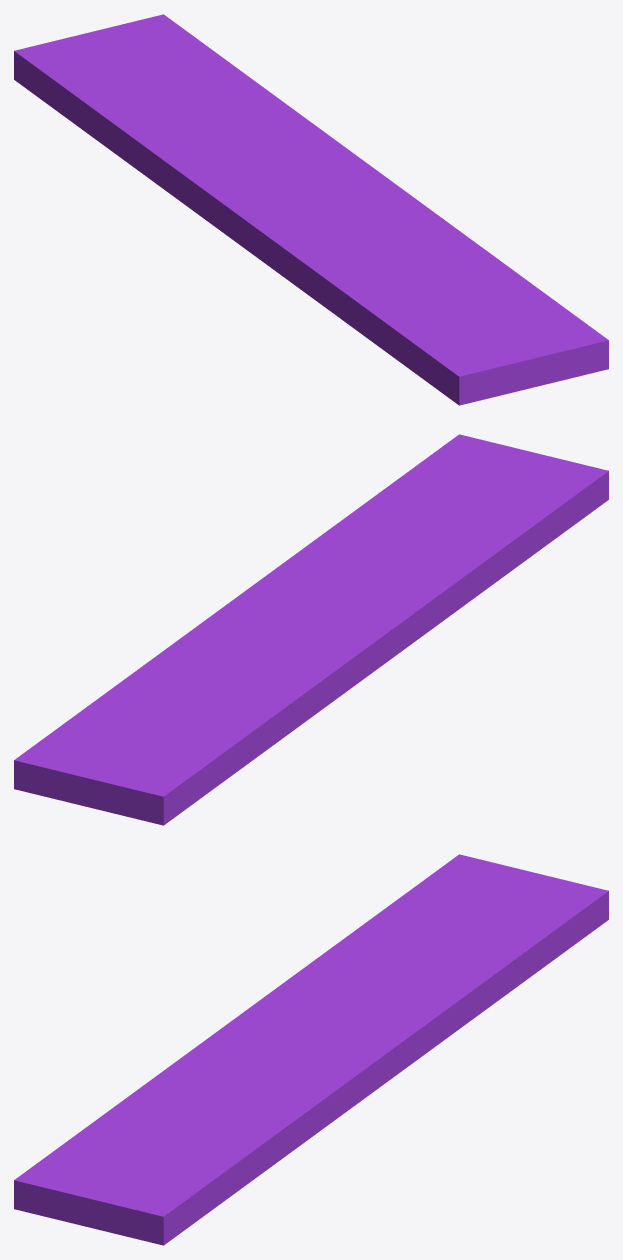
The model's file is StairsStep_93_chunks.fbx.
3 views of the same model, one above another, from view 1: azimuth 30°, elevation 25°; view 2: azimuth 150°, elevation 25°; view 3: azimuth 330°, elevation 25° (orthographic).
Visible parts, largest first — view 1: StairsStep_93_1, StairsStep_93_3, StairsStep_93_0, StairsStep_93_2; view 2: StairsStep_93_1, StairsStep_93_3, StairsStep_93_0, StairsStep_93_2; view 3: StairsStep_93_1, StairsStep_93_3, StairsStep_93_0, StairsStep_93_2.
Part boxes in pixels (bbox=[...]): StairsStep_93_1: bbox=[276, 199, 608, 405]; StairsStep_93_3: bbox=[14, 14, 381, 186]; StairsStep_93_0: bbox=[99, 113, 308, 270]; StairsStep_93_2: bbox=[296, 174, 415, 209]; StairsStep_93_1: bbox=[267, 434, 608, 633]; StairsStep_93_3: bbox=[14, 600, 301, 825]; StairsStep_93_0: bbox=[249, 599, 433, 751]; StairsStep_93_2: bbox=[233, 575, 340, 625]; StairsStep_93_1: bbox=[14, 1041, 375, 1245]; StairsStep_93_3: bbox=[321, 854, 608, 1089]; StairsStep_93_0: bbox=[190, 917, 373, 1051]; StairsStep_93_2: bbox=[282, 1025, 389, 1078].
Bounding box in the file's own units: 157 × 28.98 × 810.
